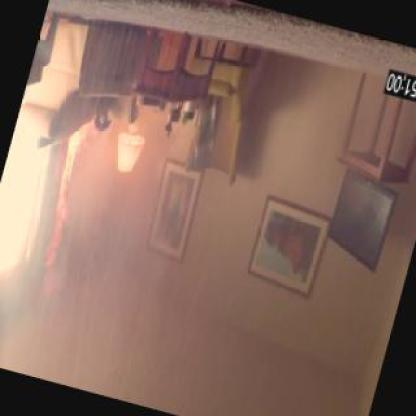Fire: (54, 119, 87, 294)
